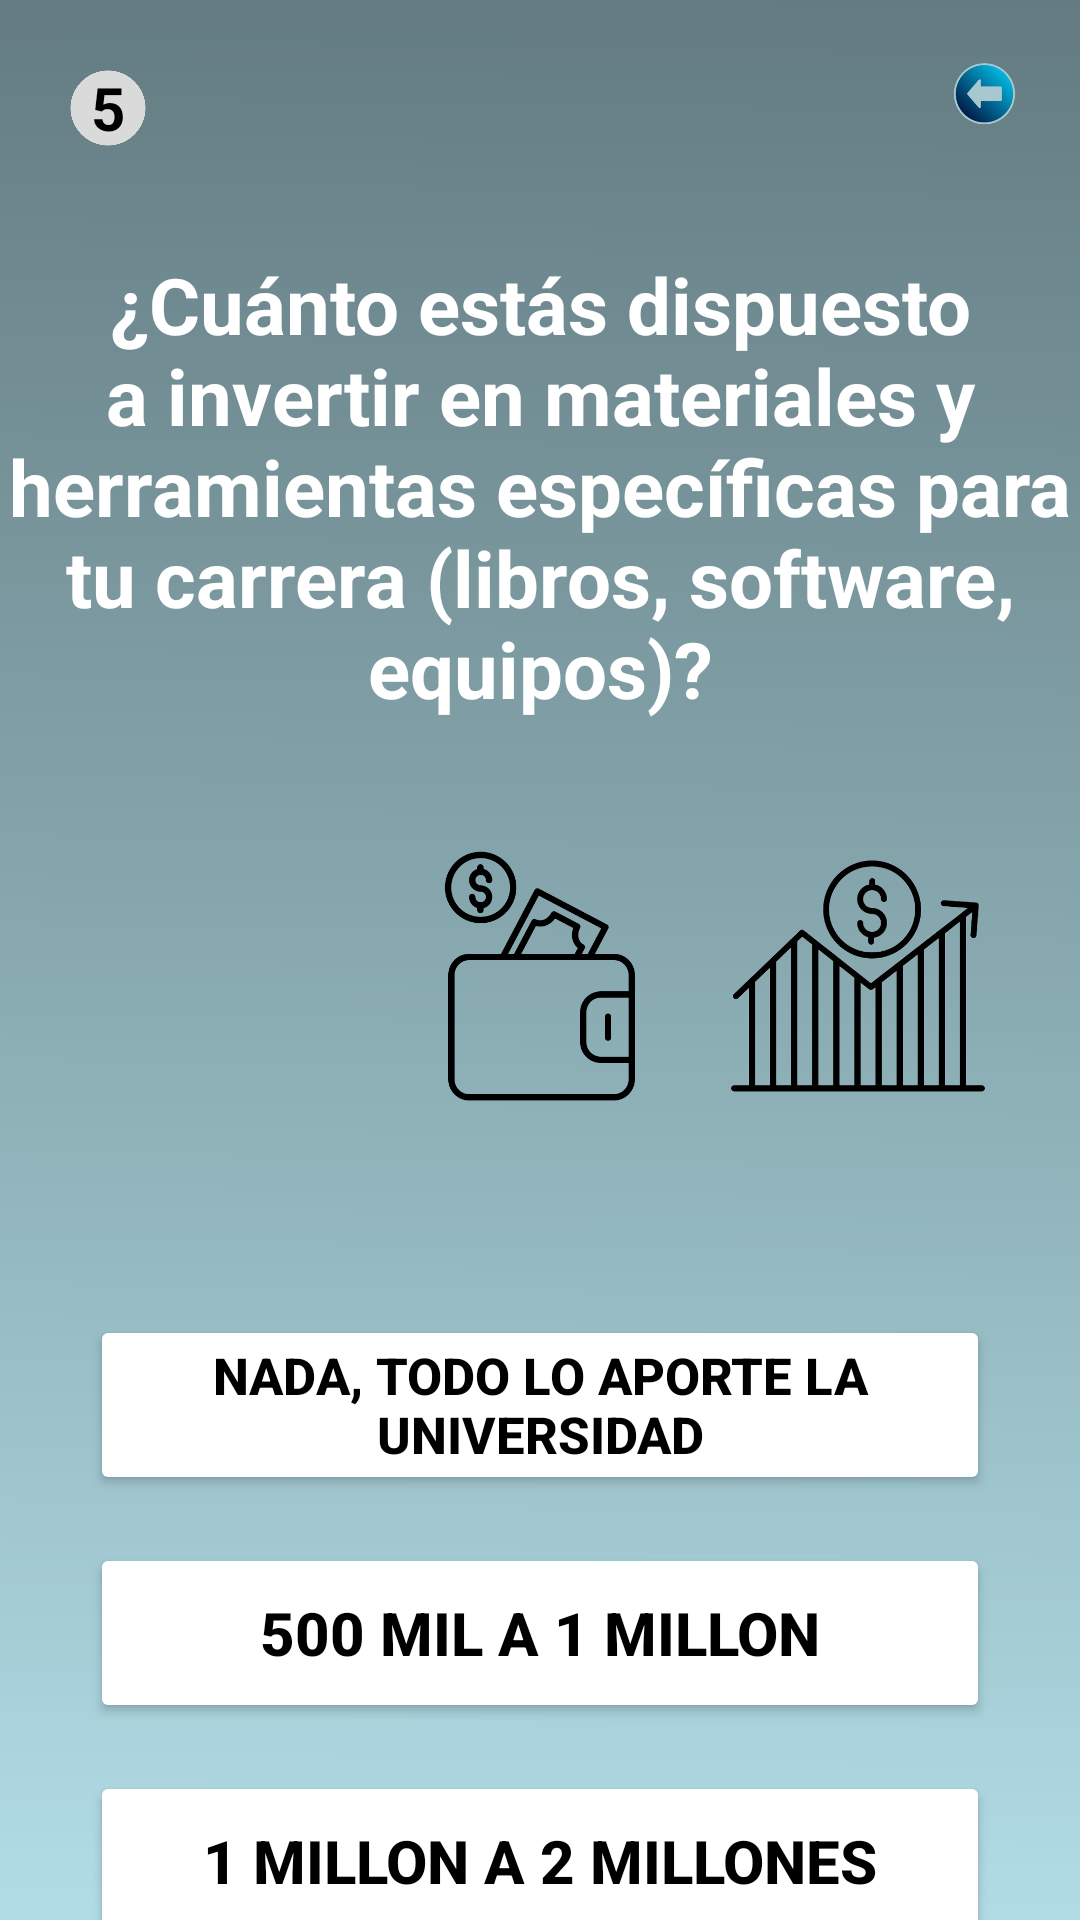

Icon click points for this 1080w x 1920h phone screenshot, format (x,y):
cartera: (540,976)
crecimiento: (858,976)
retroceso: (984,93)
